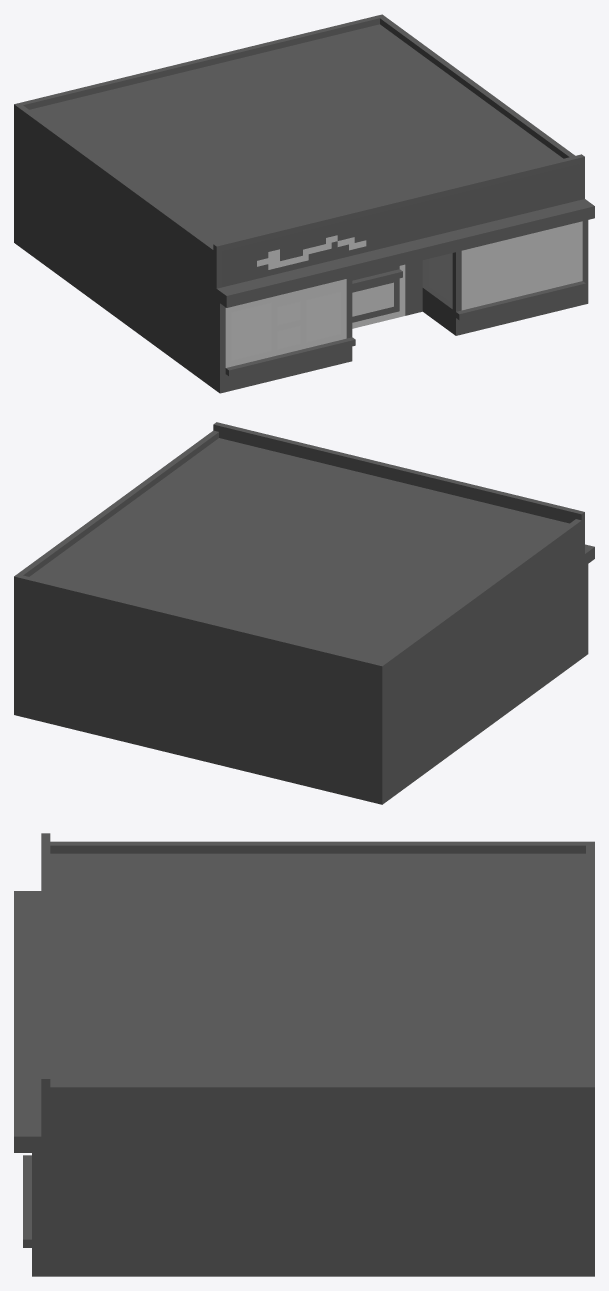
File: bld_store03.obj
3 renders of one model, top to bottom at view 1: azimuth 30°, elevation 25°; view 2: azimuth 150°, elevation 25°; view 3: azimuth 270°, elevation 25°, orthographic. The views are drawn at different scales.
Size of the model in its own units: 64 by 24 by 64.
